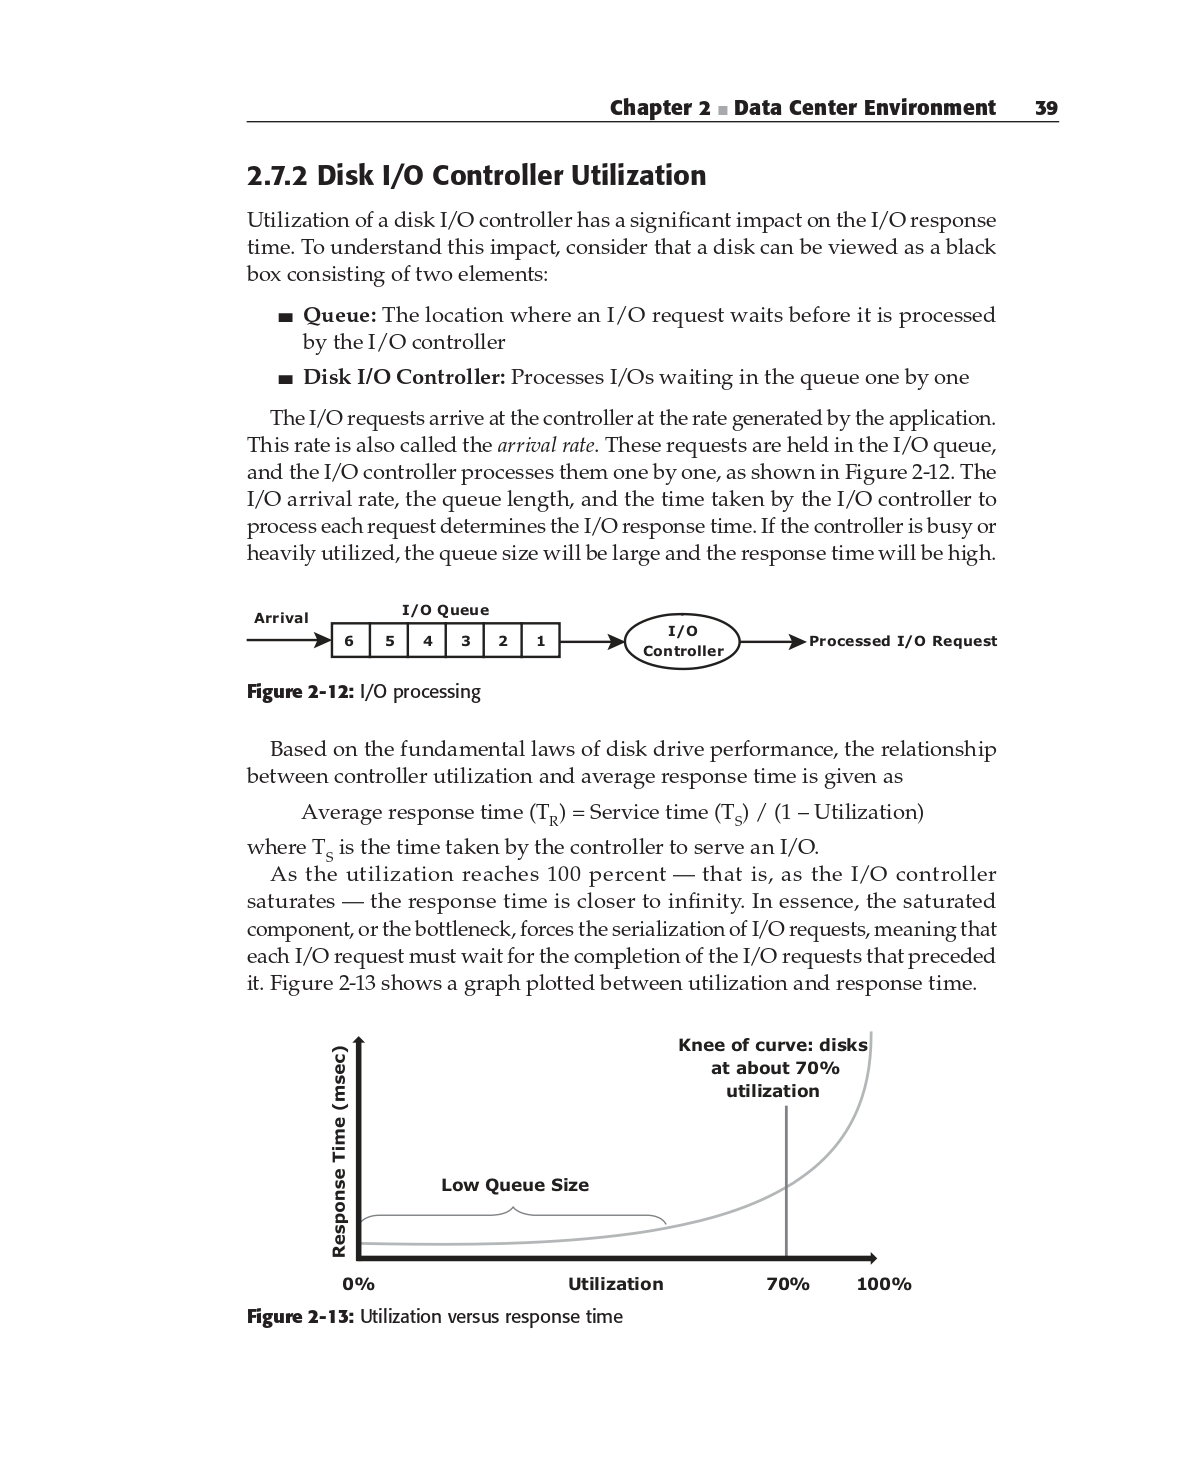Image: (319, 1028, 929, 1303), (230, 584, 1011, 669)
Paragraph: (242, 800, 1019, 1013), (240, 398, 1011, 576), (234, 205, 1001, 286), (290, 298, 999, 354), (242, 739, 1011, 779), (292, 354, 984, 391), (601, 79, 1078, 126), (240, 158, 713, 193), (245, 680, 502, 721)
